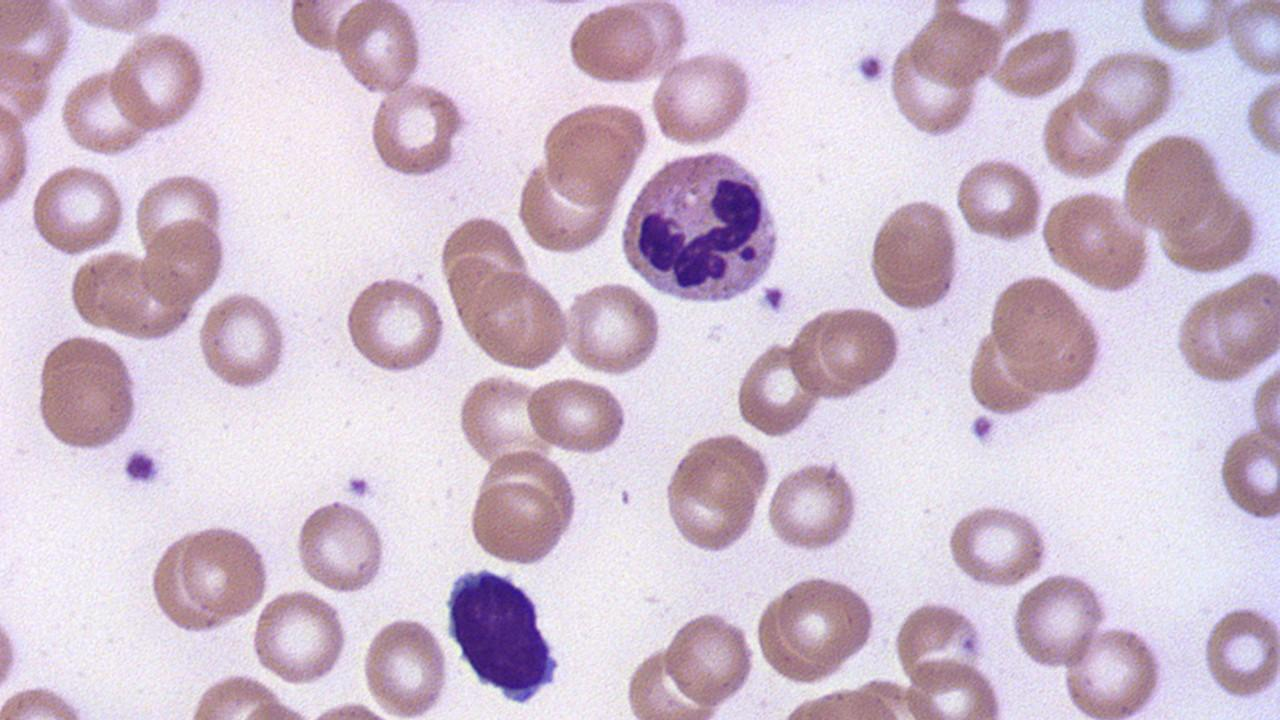Platelets: (120, 444, 167, 492), (854, 49, 888, 88), (760, 280, 789, 316), (346, 473, 375, 500)
RBC: (985, 272, 1103, 391), (31, 332, 144, 456), (67, 248, 198, 344), (865, 194, 964, 313), (1039, 189, 1153, 292), (650, 45, 760, 149), (342, 271, 448, 378), (1059, 620, 1169, 718), (466, 267, 570, 370), (108, 29, 209, 135), (514, 158, 620, 256), (1120, 136, 1226, 234), (661, 452, 762, 554), (367, 80, 468, 182), (540, 109, 642, 209), (562, 279, 664, 379), (249, 586, 350, 686), (195, 288, 291, 393), (454, 371, 556, 467), (1010, 570, 1106, 672), (660, 606, 756, 708), (944, 498, 1051, 589), (775, 574, 877, 668), (359, 613, 452, 716), (465, 476, 569, 568), (764, 459, 862, 556), (180, 521, 272, 624), (30, 161, 127, 258), (294, 494, 388, 594), (886, 40, 980, 139), (1076, 48, 1180, 137), (333, 1, 426, 100), (148, 526, 230, 636), (733, 338, 822, 439), (1039, 90, 1133, 184), (892, 598, 988, 690), (525, 373, 631, 456), (132, 170, 226, 261), (953, 154, 1043, 245), (564, 3, 660, 88), (908, 7, 1005, 90), (1202, 600, 1280, 703), (59, 66, 148, 156), (818, 302, 907, 392), (138, 215, 229, 302), (788, 306, 868, 404), (1210, 268, 1280, 370), (990, 24, 1082, 101), (900, 656, 1006, 718), (1216, 427, 1280, 522), (285, 1, 380, 60), (1137, 0, 1231, 54), (1, 43, 56, 129), (1226, 2, 1280, 76), (58, 0, 168, 35), (0, 95, 31, 216), (1244, 77, 1280, 161), (0, 580, 23, 708), (1250, 363, 1280, 453), (1, 0, 55, 46)
WBC: (616, 143, 786, 309), (440, 564, 572, 706)
